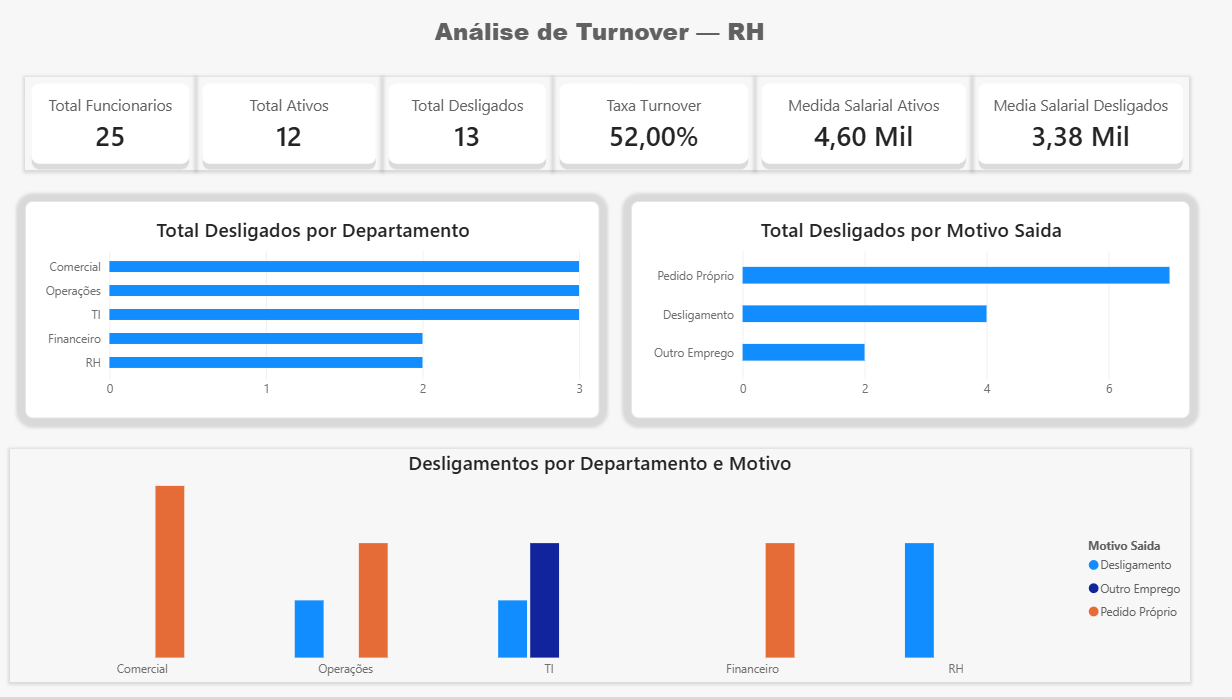

This screenshot's page, from the dashboard's own definition file:
{"tool":"powerbi","page":{"name":"Página 1","canvas":[1280,720],"ordinal":0},"visuals":[{"type":"cardVisual","fields":{"Data":["funcionarios.Total Desligados"]},"box":[400,80,176,96],"z":0},{"type":"cardVisual","fields":{"Data":["funcionarios.Total Funcionarios"]},"box":[32,80,176,96],"z":1000},{"type":"cardVisual","fields":{"Data":["funcionarios.Taxa Turnover"]},"box":[576,80,208,96],"z":2000},{"type":"cardVisual","fields":{"Data":["funcionarios.Total Ativos"]},"box":[208,80,192,96],"z":3000},{"type":"clusteredBarChart","title":"Total Desligados por Motivo Saida","fields":{"Category":["funcionarios.Motivo_Saida"],"Y":["funcionarios.Total Desligados"]},"box":[656,208,576,224],"z":4000},{"type":"clusteredBarChart","title":"Total Desligados  por Departamento","fields":{"Category":["funcionarios.Departamento"],"Y":["funcionarios.Total Desligados"]},"box":[32,208,592,224],"z":5000},{"type":"clusteredColumnChart","title":"Desligamentos por Departamento e Motivo","fields":{"Category":["funcionarios.Departamento"],"Series":["funcionarios.Motivo_Saida"],"Y":["funcionarios.Total Desligados"]},"box":[16,464,1216,240],"z":6000},{"type":"cardVisual","fields":{"Data":["funcionarios.Media Salarial Desligados"]},"box":[1008,80,224,96],"z":7000},{"type":"cardVisual","fields":{"Data":["funcionarios.Medida Salarial Ativos"]},"box":[784,80,224,96],"z":8000},{"type":"textbox","box":[416,16,416,48],"z":9000}]}

Visuals, with their boxes in screenshot pixels (x1, y1, x2, y2), scaled from the page's 1280x720 canvas onto the 1232x699 screenshot:
cardVisual - funcionarios.Total Desligados: rect(385, 78, 554, 171)
cardVisual - funcionarios.Total Funcionarios: rect(31, 78, 200, 171)
cardVisual - funcionarios.Taxa Turnover: rect(554, 78, 755, 171)
cardVisual - funcionarios.Total Ativos: rect(200, 78, 385, 171)
"Total Desligados por Motivo Saida" clusteredBarChart: rect(631, 202, 1186, 419)
"Total Desligados  por Departamento" clusteredBarChart: rect(31, 202, 601, 419)
"Desligamentos por Departamento e Motivo" clusteredColumnChart: rect(15, 450, 1186, 683)
cardVisual - funcionarios.Media Salarial Desligados: rect(970, 78, 1186, 171)
cardVisual - funcionarios.Medida Salarial Ativos: rect(755, 78, 970, 171)
textbox: rect(400, 16, 801, 62)
